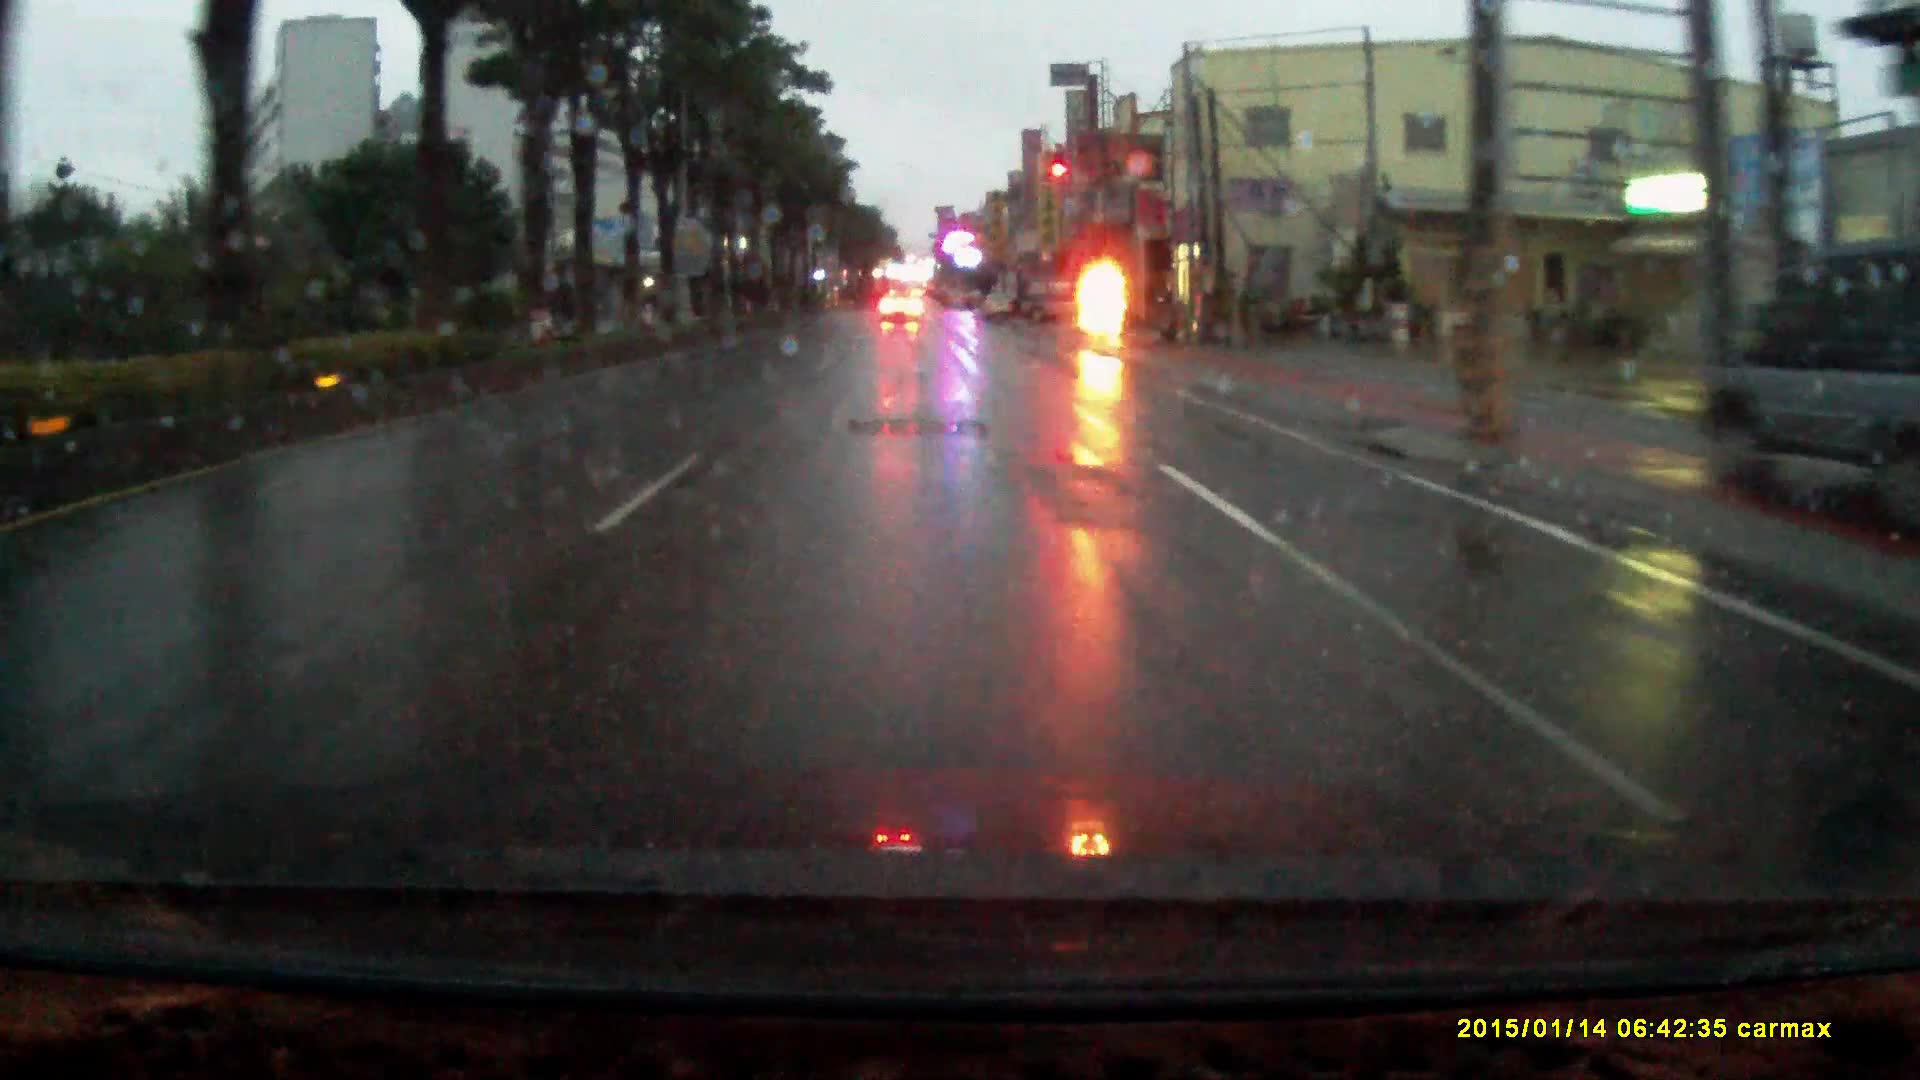vehicle: (1021, 280, 1093, 324), (880, 291, 926, 330)
